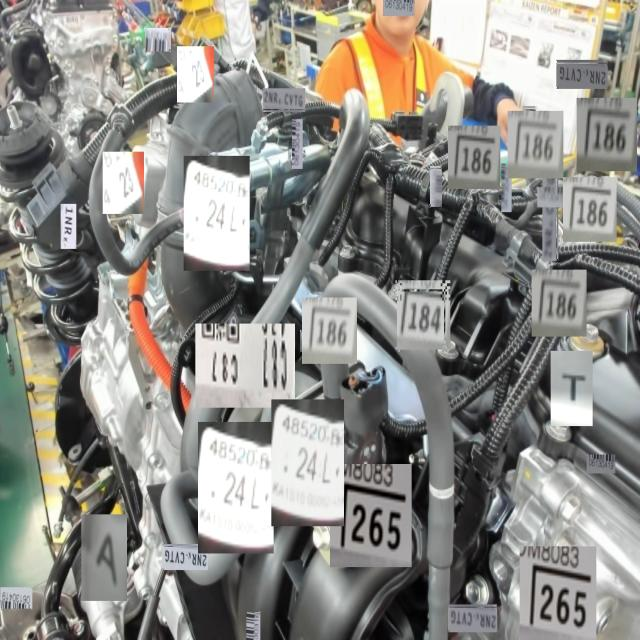Absorber LH-23: (108, 160, 140, 203), (189, 57, 206, 92)
Absorber LH-24: (213, 455, 263, 524), (282, 438, 336, 494), (202, 192, 239, 244)
Compressor-A: (91, 530, 122, 587)
Compressor-T: (558, 368, 588, 406)
Engine Assy-184: (407, 300, 441, 338)
Engine Assy-186: (308, 301, 352, 354), (453, 132, 497, 182), (590, 118, 630, 160), (573, 187, 610, 232), (542, 282, 580, 324), (520, 130, 555, 164)
Engine Assy-265: (348, 497, 404, 555), (537, 579, 589, 630)
Hose Canister-PT: (426, 477, 455, 505)
Transaxele-C87-A27: (197, 332, 293, 394)
